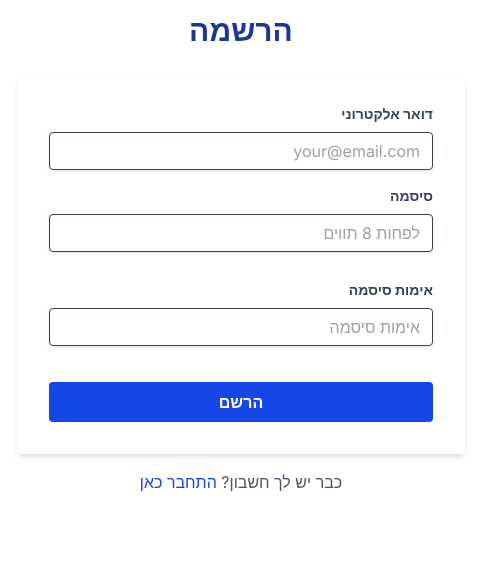
Test: Signup Page › validates password length
// Fill form with short password
Step 1. Type "test@example.com" into the field labelled "דואר אלקטרוני" → (241, 151), box 49,132 -> 433,170
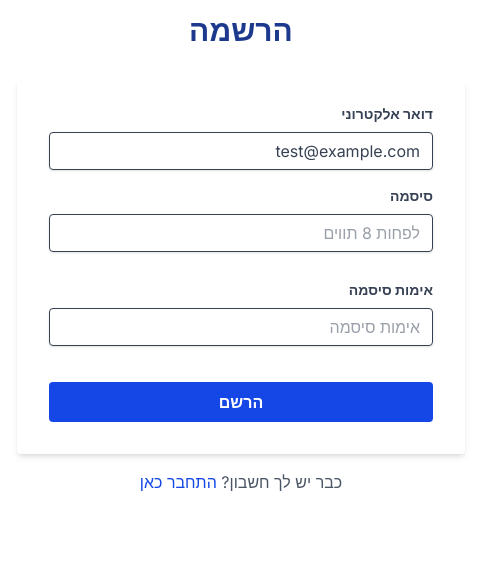
Step 2. Type "short" into the password field labelled "סיסמה" → (241, 233), box 49,214 -> 433,252
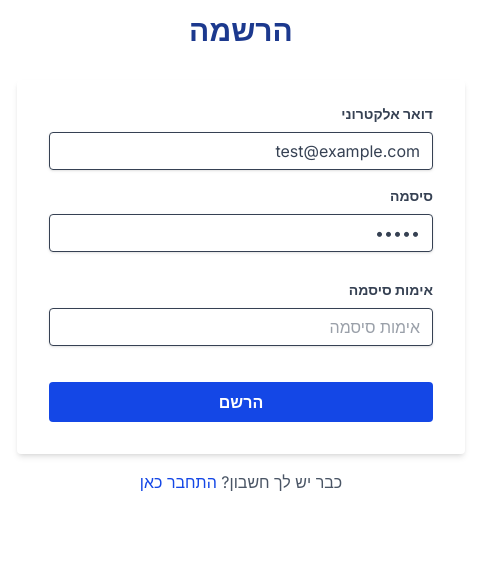
Step 3. Type "short" into the password field labelled "אימות סיסמה" → (241, 327), box 49,308 -> 433,346
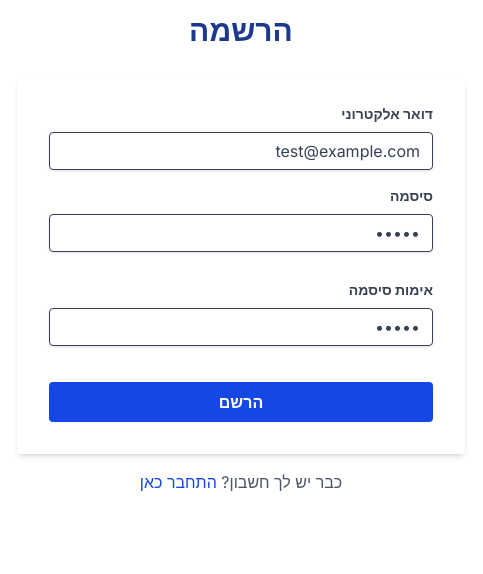
// Submit form
Step 4. Click the button "הרשם" → (241, 402), box 49,382 -> 433,422
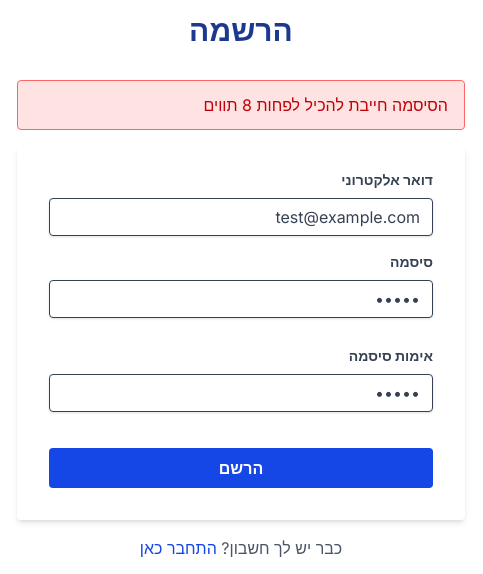
Expected: the text "הסיסמה חייבת להכיל לפחות 8 תווים" is shown, 204,95 -> 448,115
